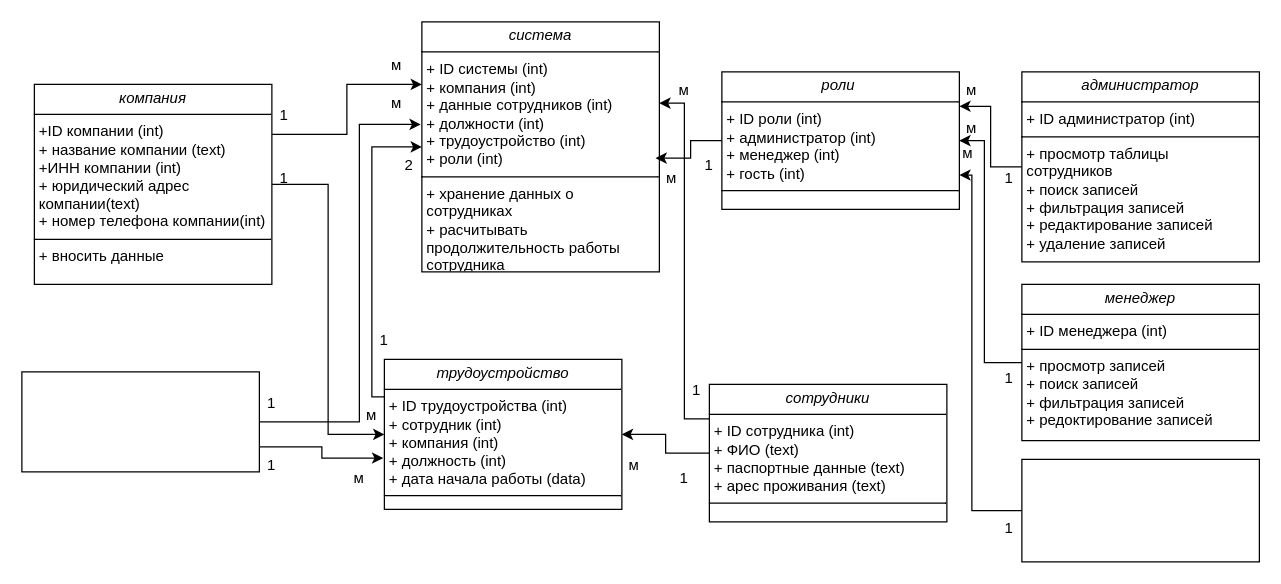
This 1281x584 diagram has some shape labels left out. The shapes that lost their labels are listed below. From the top down, each one's box as (x1, y1, x2, y2) in pixels, then its label:
(21, 371, 259, 472): должности + ID должности (int) + наименование (text)
(1021, 458, 1259, 562): гость + ID гостя (int) + просмотр таблицы
